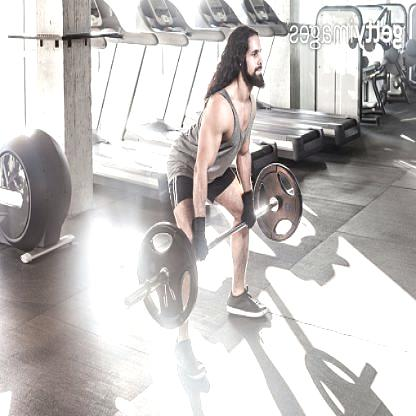Barbell: (115, 288, 134, 321)
